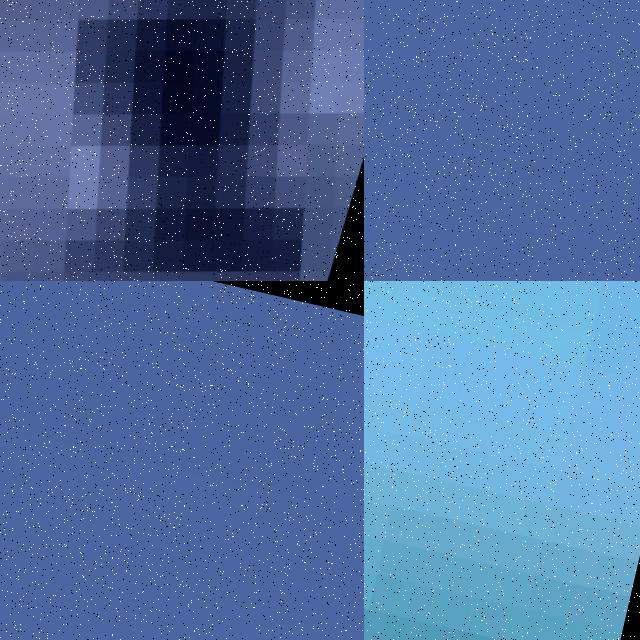0: (0, 0, 364, 281)
drone: (364, 557, 605, 640)
